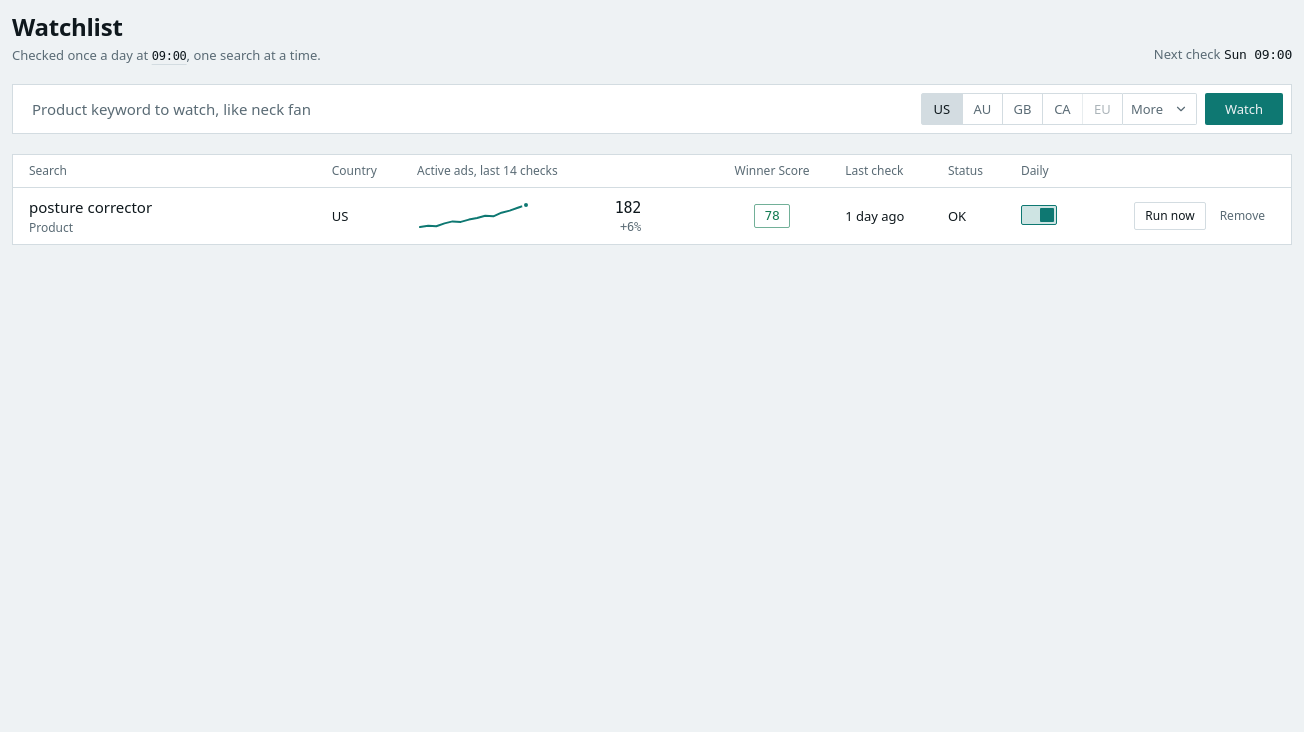
Test: WatchlistPage › add watch posts and lists
Expected: the link "posture corrector" is shown, [29,196,152,216]
In the field labelled "Product keyword": (467, 109) [21,93,913,125], type "neck fan"
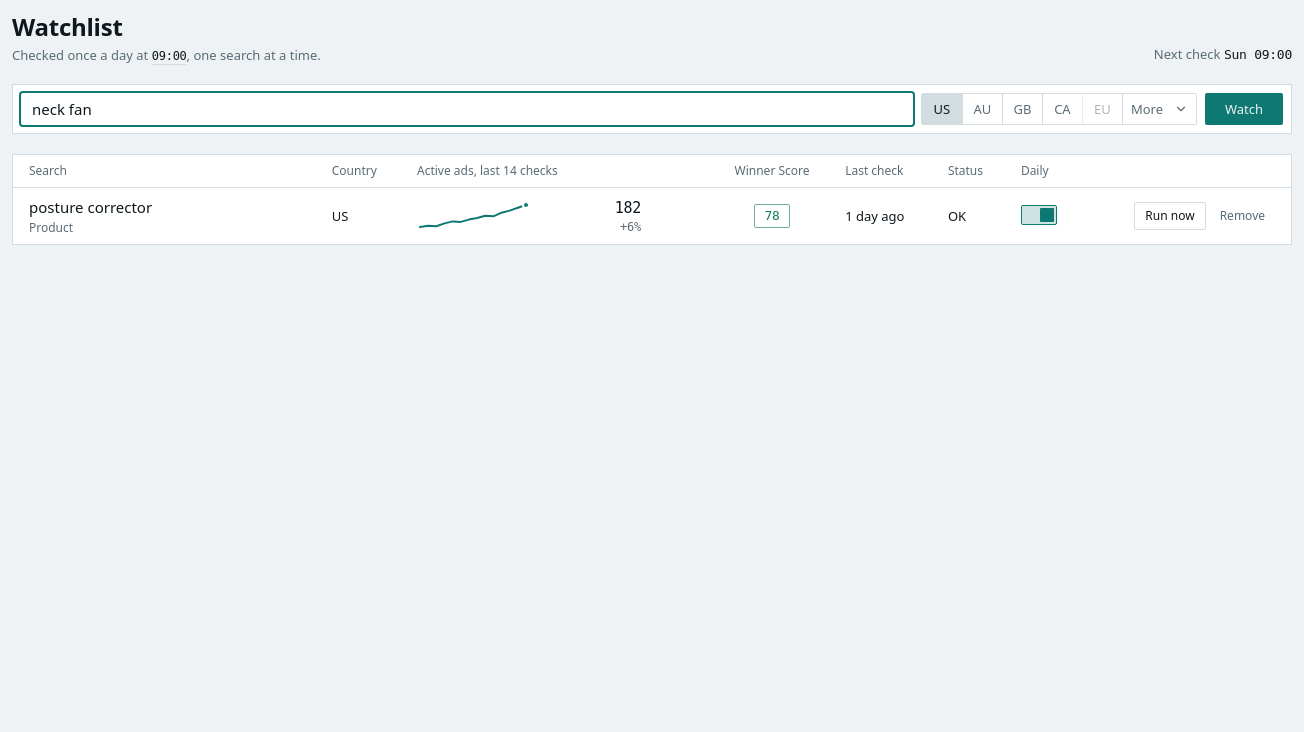
Click the radio button labelled "AU": (982, 109) [962,94,1002,124]
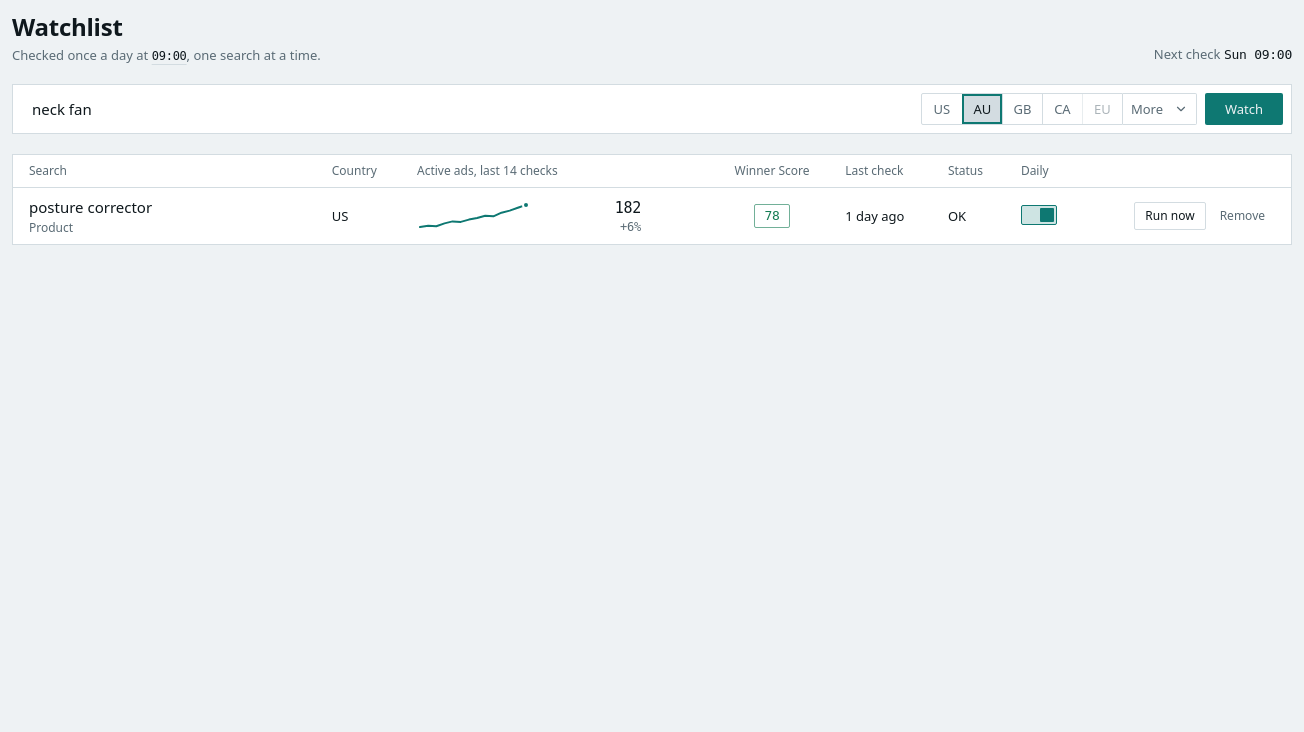
Click the button "Watch": (1244, 109) [1205,93,1283,125]
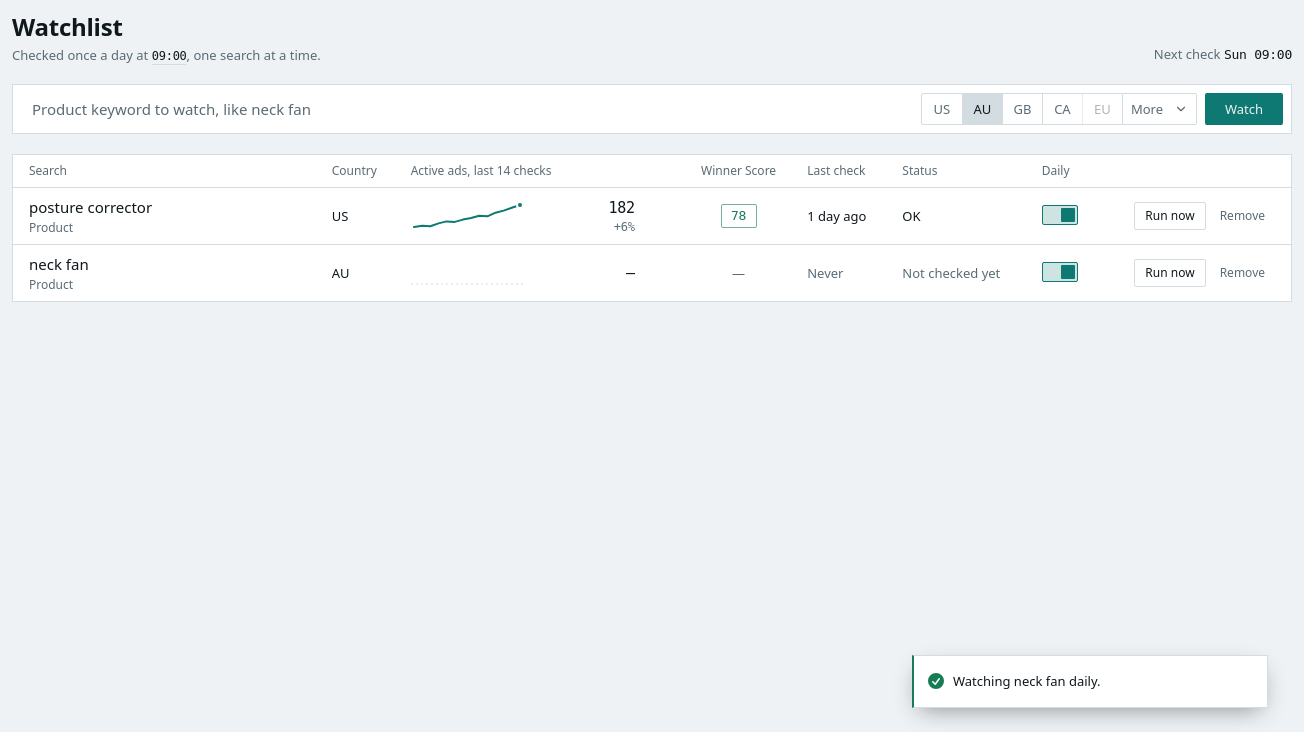
Now the link "neck fan" is shown, box [29,254,89,274]
Now the field labelled "Product keyword" is empty
Note: The same search again: the API's 409 shows next to the form.
In the field labelled "Product keyword": (467, 109) [21,93,913,125], type "neck fan"
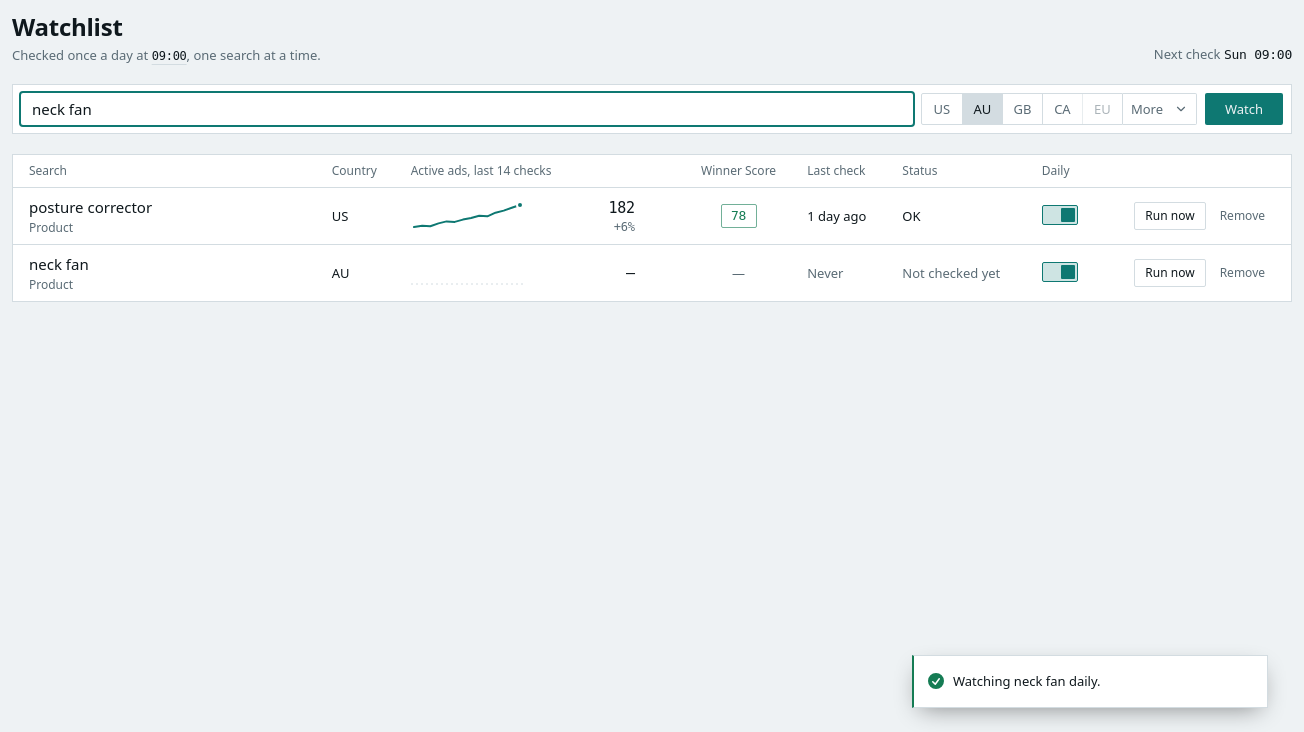
Click the button "Watch": (1244, 109) [1205,93,1283,125]
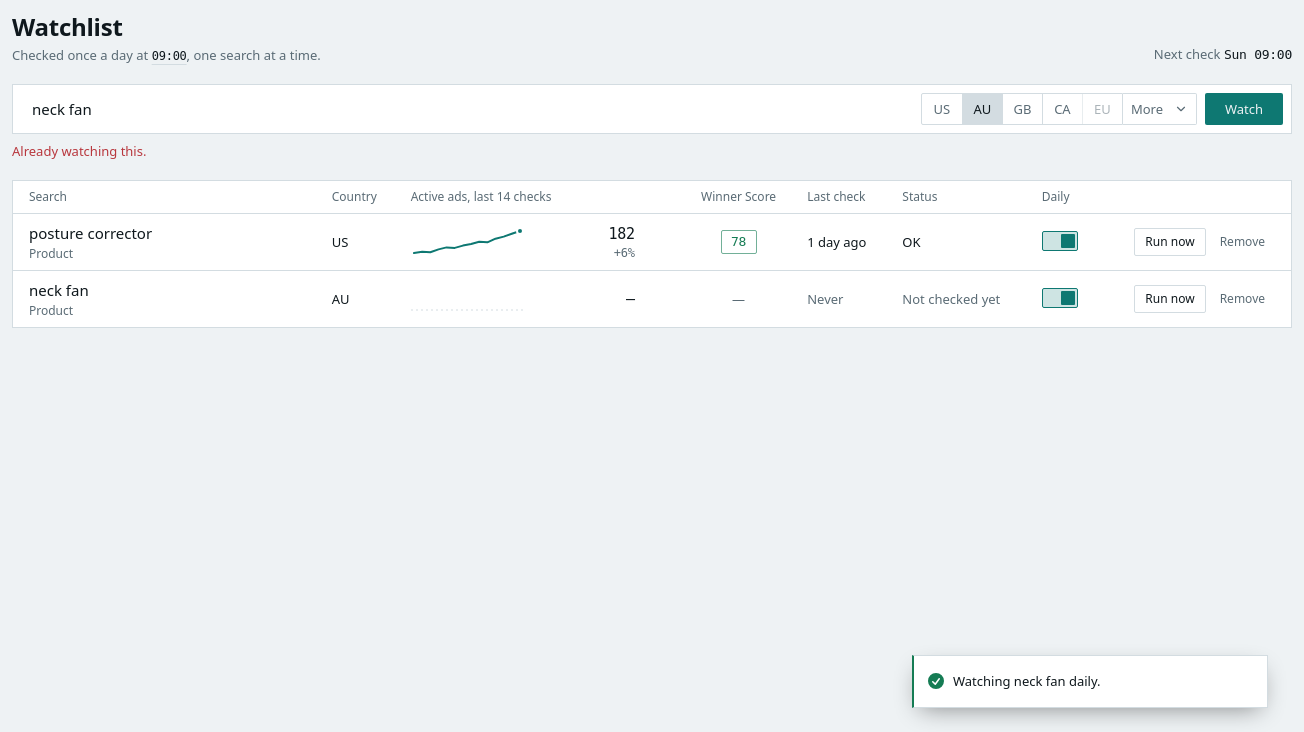
Now the text "Already watching this." is shown, box [12,142,146,160]
